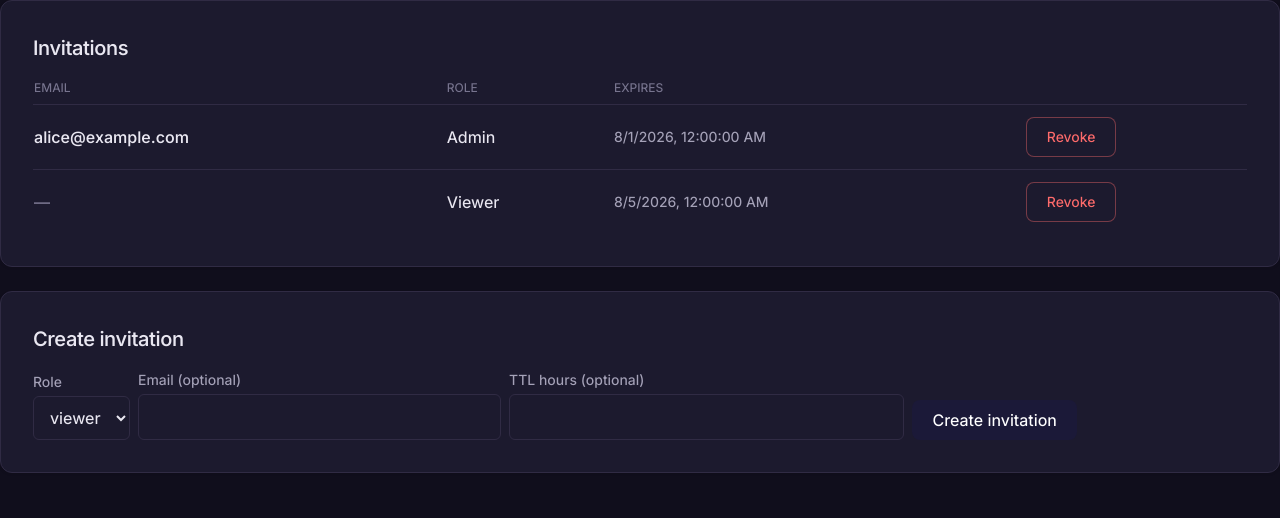
Scenario: OrgInvitations › surfaces a 403 error when a non-owner tries to grant the owner role
Expected: the text "alice@example.com" is shown, [33,104,446,170]
Click the button "Create invitation": (995, 420) [912,400,1077,440]
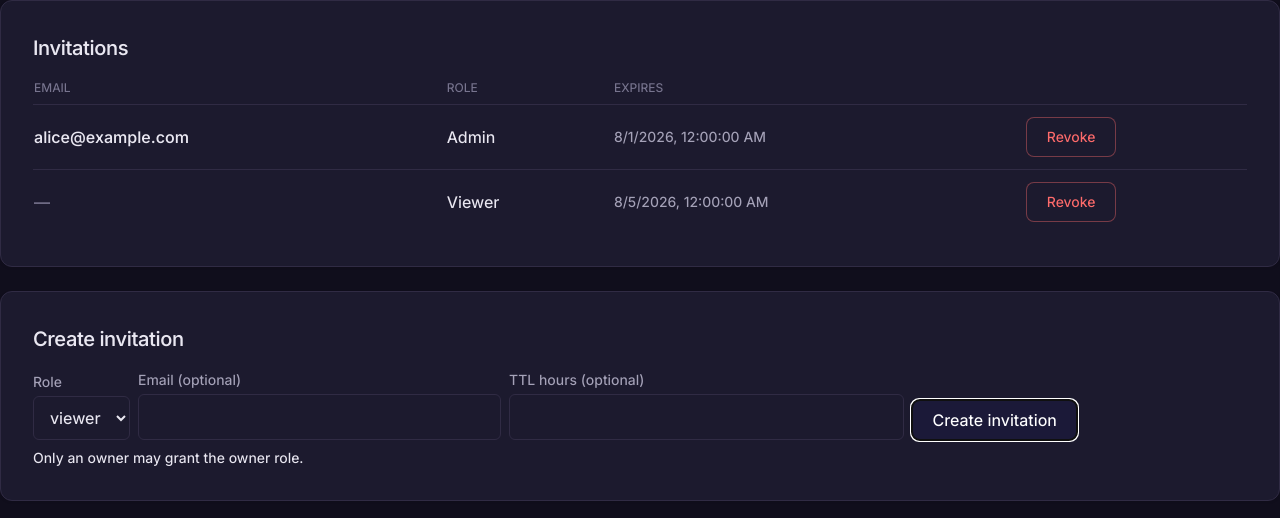
Now the text "Only an owner may grant the owner role." is shown, box [33,449,304,466]
